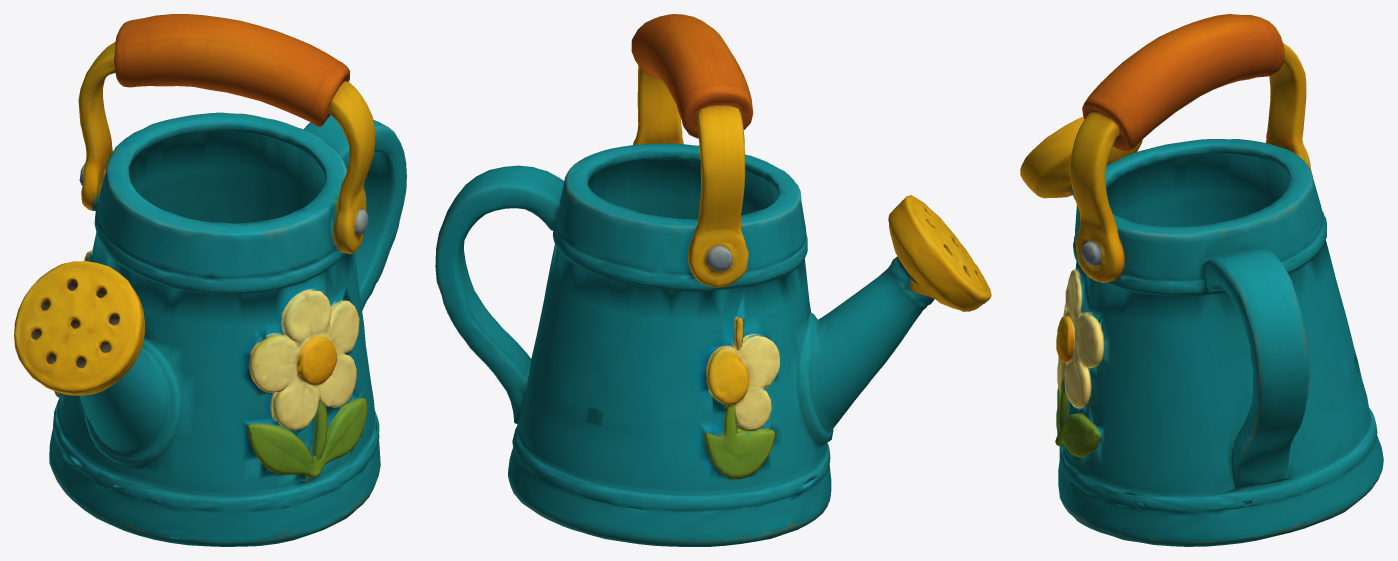
Rendered from watering_can.glb.
The picture shows the model from 3 angles, left to right: view 1: azimuth 30°, elevation 25°; view 2: azimuth 150°, elevation 25°; view 3: azimuth 270°, elevation 25°; orthographic projection. The views are drawn at different scales.
Visible parts, largest first — view 1: tripo_node_892fe979-b3ed-4bb2-be64-e671e943f259; view 2: tripo_node_892fe979-b3ed-4bb2-be64-e671e943f259; view 3: tripo_node_892fe979-b3ed-4bb2-be64-e671e943f259.
Part boxes in pixels (x1,y1,x2,y2): tripo_node_892fe979-b3ed-4bb2-be64-e671e943f259: (14,14,406,546); tripo_node_892fe979-b3ed-4bb2-be64-e671e943f259: (435,14,991,546); tripo_node_892fe979-b3ed-4bb2-be64-e671e943f259: (1020,14,1383,546).
Bounding box in the file's own units: 0.9777 × 0.9471 × 0.6754.
Materials: 1 (1 with a texture image).
